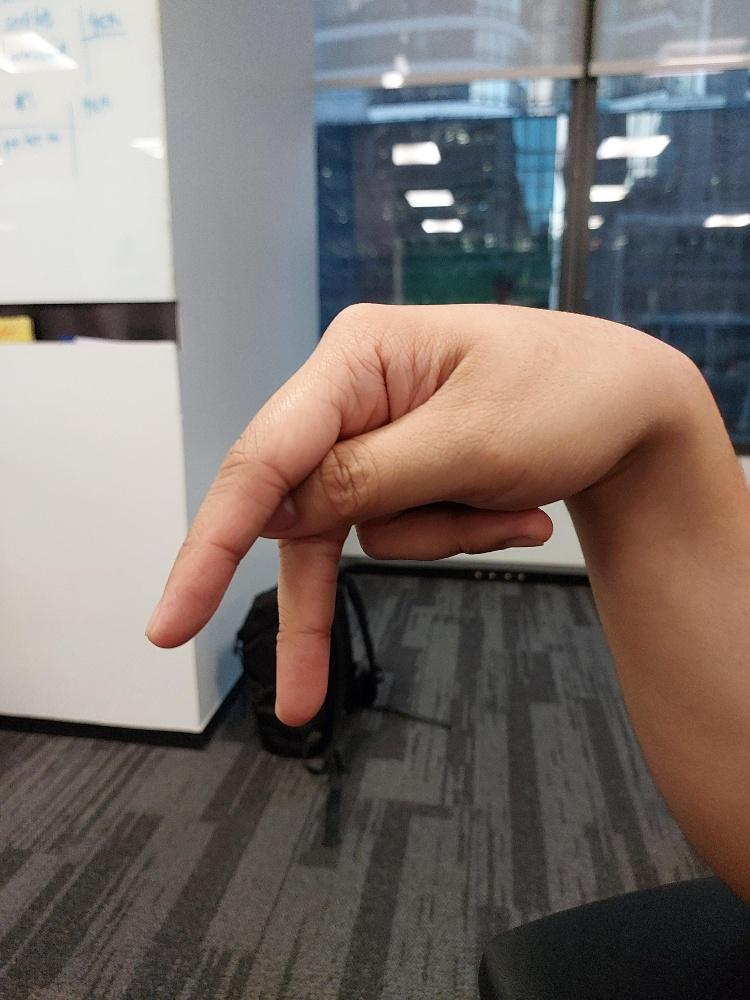p: (138, 293, 678, 729)
